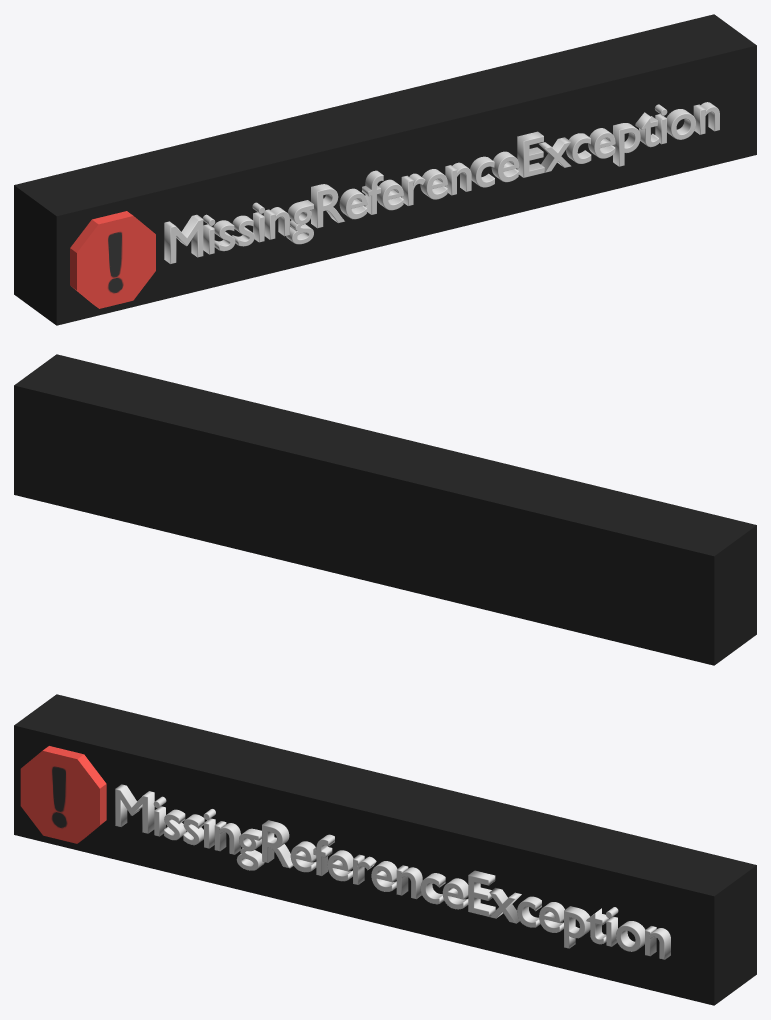
File: MissingReferenceException.fbx
3 views of the same model, one above another, from view 1: azimuth 30°, elevation 25°; view 2: azimuth 150°, elevation 25°; view 3: azimuth 330°, elevation 25° (orthographic).
Parts seen in each view (by area): view 1: nooo1.003, MissingReferenceException; view 2: nooo1.003; view 3: nooo1.003, MissingReferenceException.
Part boxes in pixels (x1,y1,x2,y2): nooo1.003: (14,14,756,325); MissingReferenceException: (164,102,719,263); nooo1.003: (14,354,756,665); nooo1.003: (14,694,756,1005); MissingReferenceException: (115,784,670,959).
Bounding box in the file's own units: 2646 × 395 × 323.
